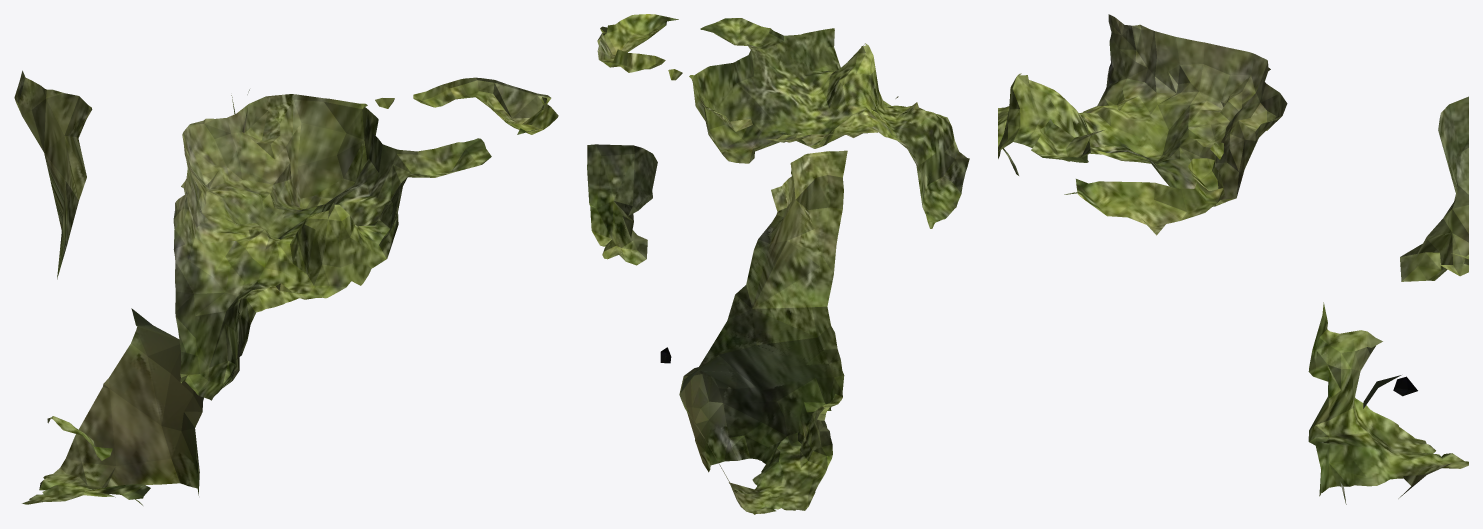
3 views of the same model, side by side, from view 1: azimuth 30°, elevation 25°; view 2: azimuth 150°, elevation 25°; view 3: azimuth 270°, elevation 25° (orthographic). The views are drawn at different scales.
Bounding box in the file's own units: 2.94 × 2.95 × 2.95.
Materials: 3 (3 with a texture image).
